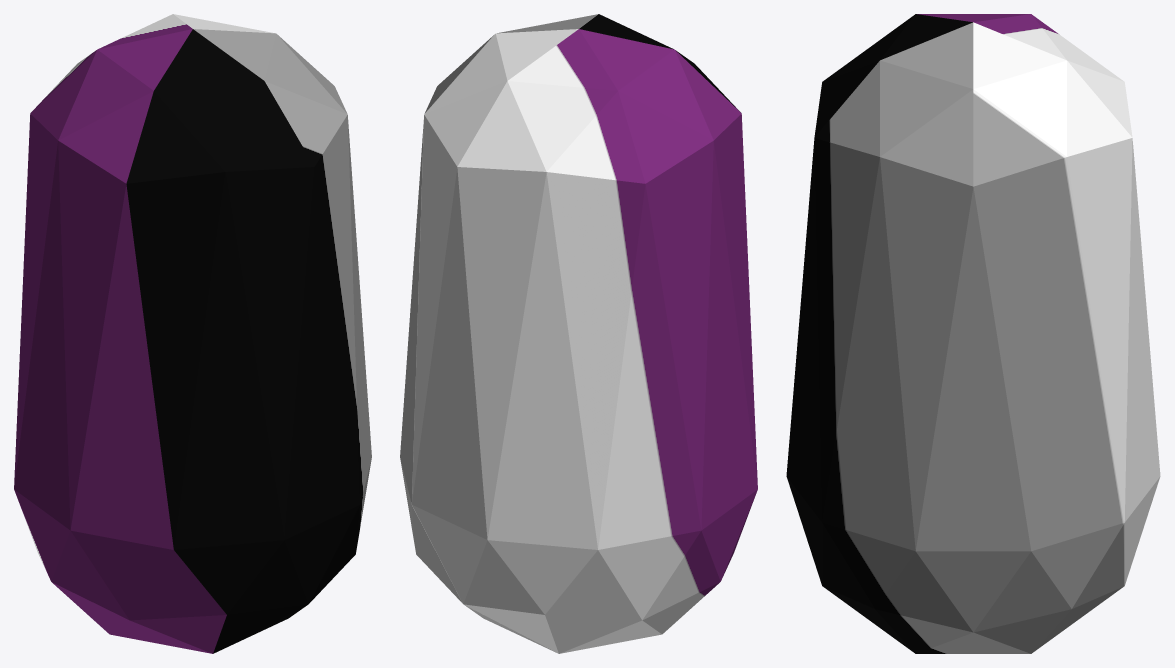
Rendered from bean7.obj.
The picture shows the model from 3 angles, left to right: view 1: azimuth 30°, elevation 25°; view 2: azimuth 150°, elevation 25°; view 3: azimuth 270°, elevation 25°; orthographic projection. The views are drawn at different scales.
Visible parts, largest first — view 1: Icosphere; view 2: Icosphere; view 3: Icosphere.
Part boxes in pixels (x1=…): Icosphere: x1=14, y1=14, x2=371, y2=653; Icosphere: x1=400, y1=14, x2=757, y2=653; Icosphere: x1=786, y1=14, x2=1160, y2=653.
Bounding box in the file's own units: 9.51 × 18.39 × 10.
1 material, 1 textured.
